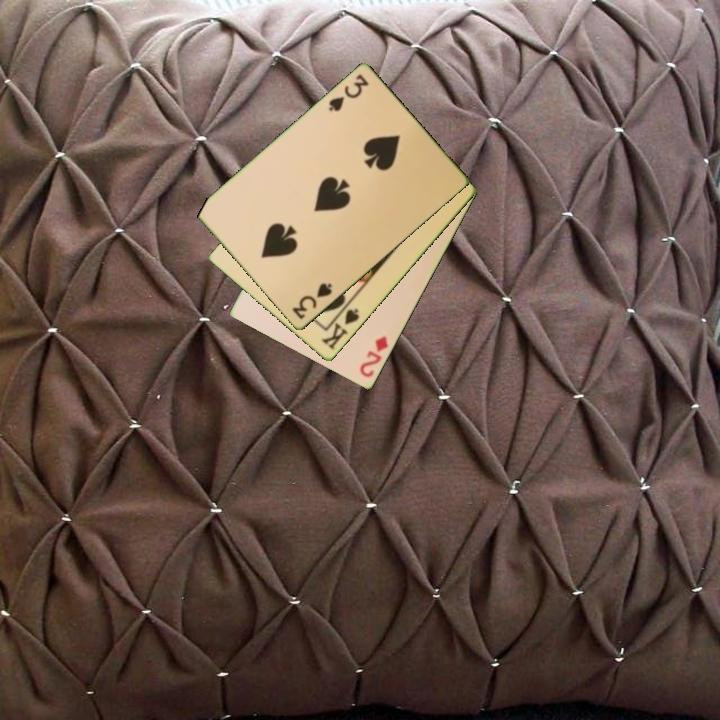2d: (356, 333, 391, 381)
3s: (325, 71, 372, 115), (288, 280, 335, 322)
Ks: (318, 300, 362, 353)
